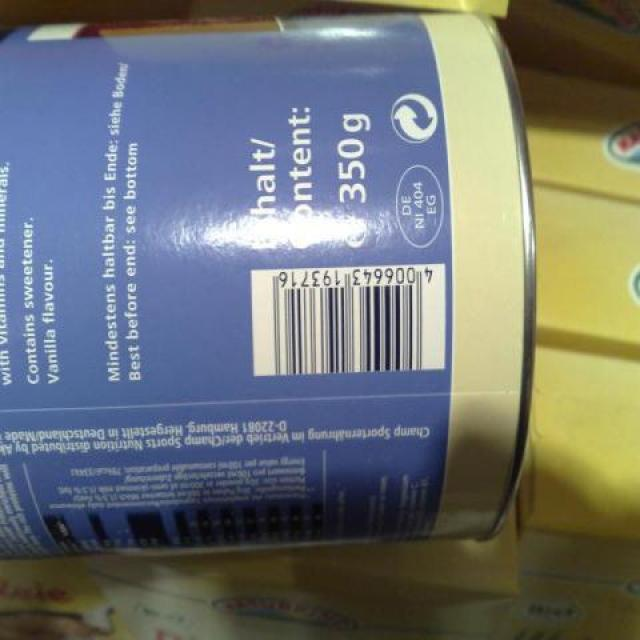Barcode: (247, 264, 446, 376)
